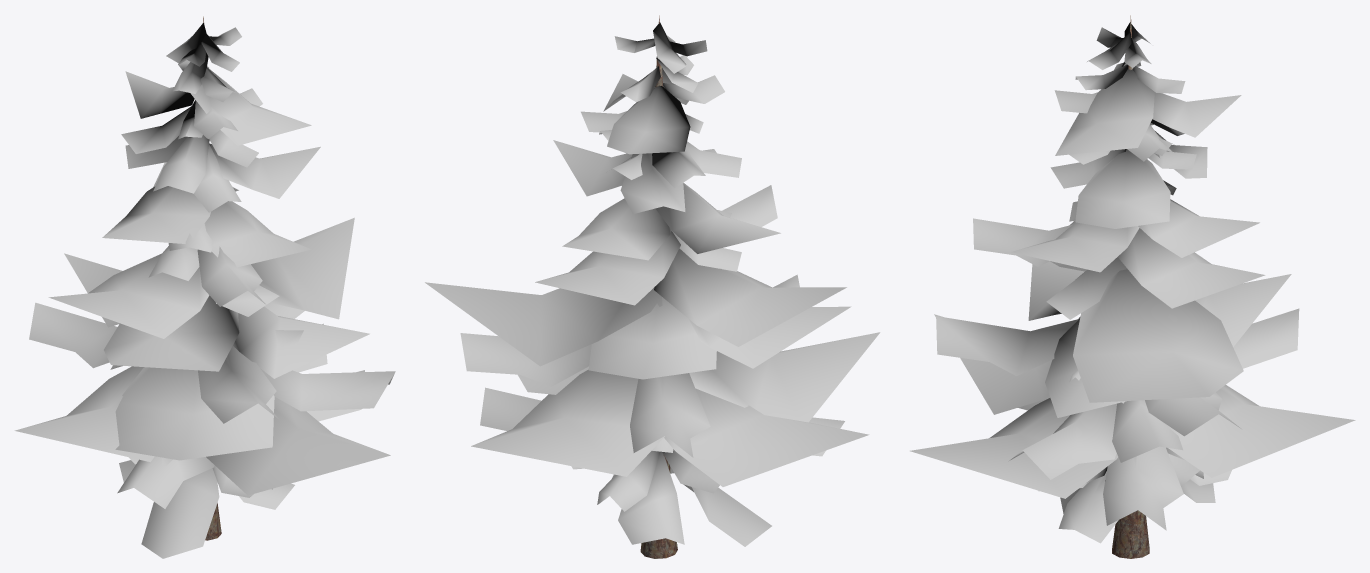
The model's file is Fol_SpruceA.FBX.
3 views of the same model, side by side, from view 1: azimuth 30°, elevation 25°; view 2: azimuth 150°, elevation 25°; view 3: azimuth 270°, elevation 25° (orthographic). The views are drawn at different scales.
Parts seen in each view (by area): view 1: Spruce1_Needles; view 2: Spruce1_Needles, Spruce1_Trunk; view 3: Spruce1_Needles, Spruce1_Trunk.
Boxes of the visible parts, x1,y1,x2,y2 form: Spruce1_Needles: [14, 23, 395, 558]; Spruce1_Needles: [425, 22, 880, 546]; Spruce1_Trunk: [640, 15, 677, 558]; Spruce1_Needles: [910, 22, 1355, 543]; Spruce1_Trunk: [1112, 15, 1149, 558].
Bounding box in the file's own units: 330 × 424 × 319.
